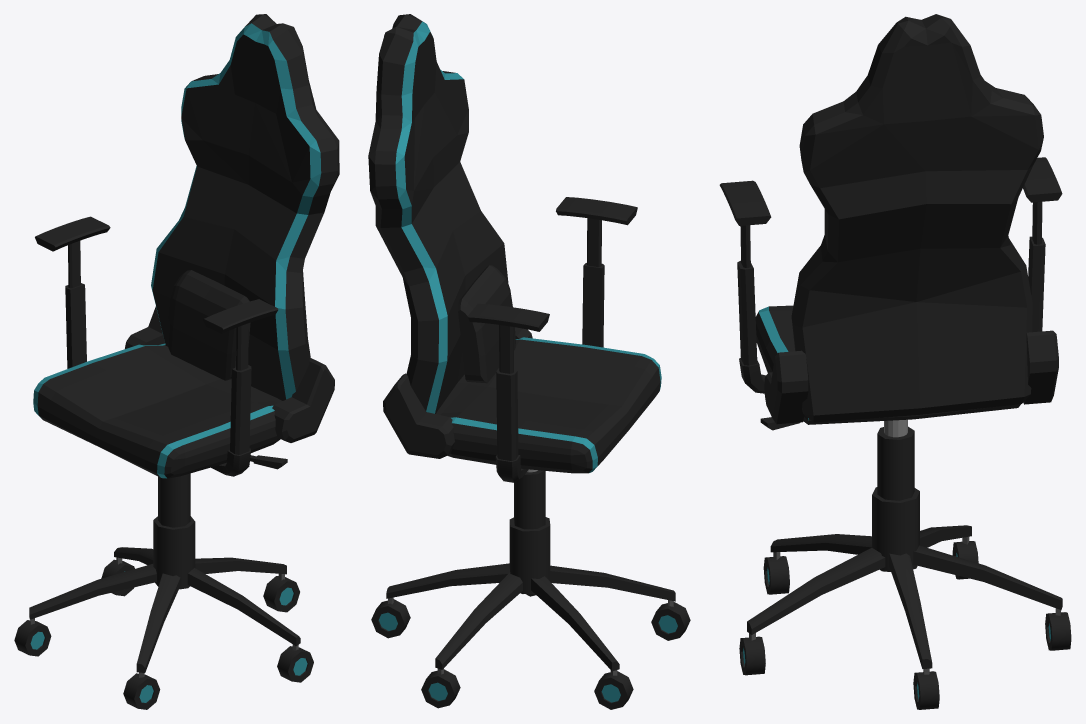
File: Silla.fbx
The picture shows the model from 3 angles, left to right: view 1: azimuth 30°, elevation 25°; view 2: azimuth 150°, elevation 25°; view 3: azimuth 270°, elevation 25°; orthographic projection. The views are drawn at different scales.
Parts seen in each view (by area): view 1: Gaming Chair Ac 2.001; view 2: Gaming Chair Ac 2.001; view 3: Gaming Chair Ac 2.001.
Boxes of the visible parts, x1=… form: Gaming Chair Ac 2.001: x1=14, y1=14, x2=339, y2=709; Gaming Chair Ac 2.001: x1=368, y1=14, x2=690, y2=709; Gaming Chair Ac 2.001: x1=719, y1=14, x2=1071, y2=709.
Bounding box in the file's own units: 3.06 × 6.58 × 3.07.
